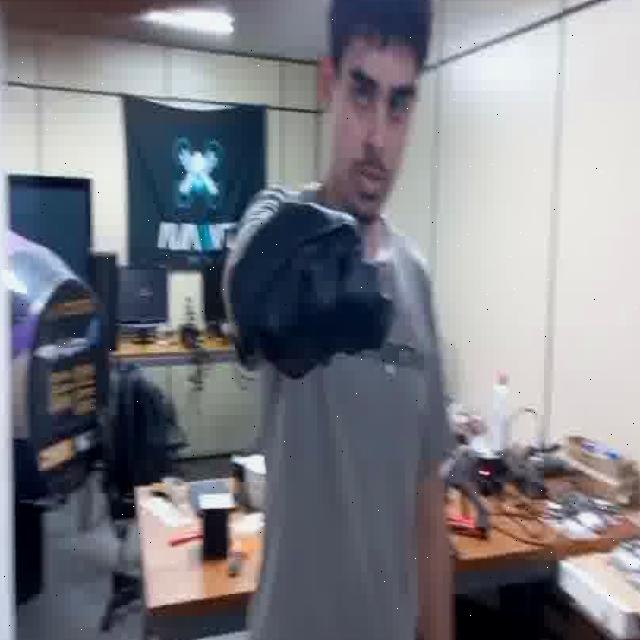Gloves: (235, 204, 407, 394)
